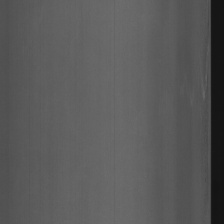silk_spot: (187, 40, 210, 163)
